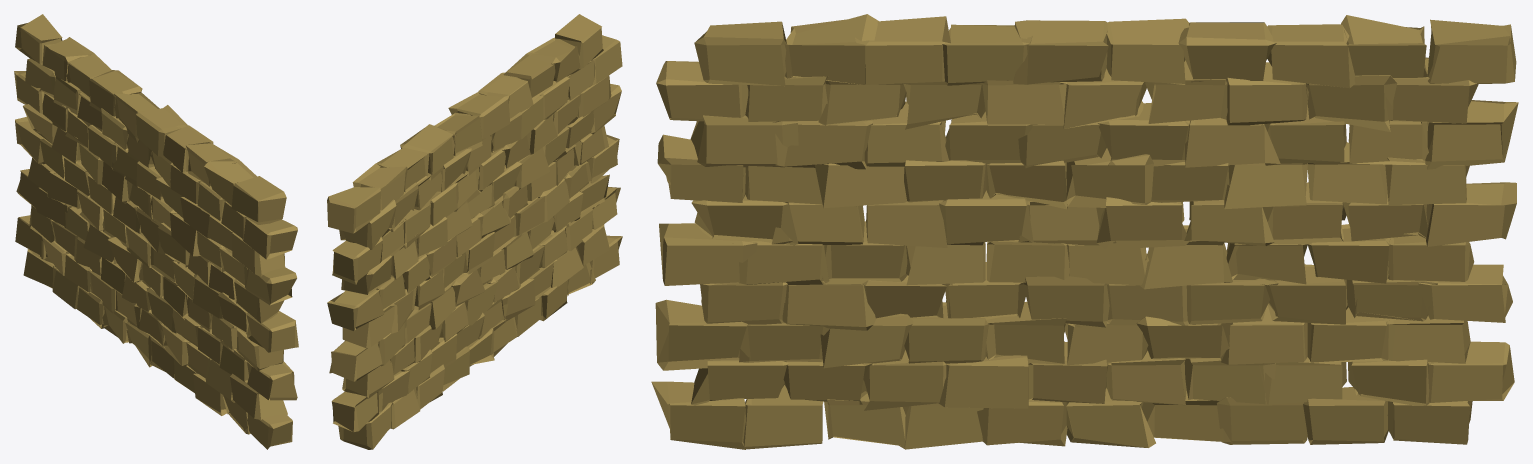
Rendered from egypt_wallset1.fbx.
3 views of the same model, side by side, from view 1: azimuth 30°, elevation 25°; view 2: azimuth 150°, elevation 25°; view 3: azimuth 270°, elevation 25° (orthographic). The views are drawn at different scales.
Visible parts, largest first — view 1: Cube; view 2: Cube; view 3: Cube.
Boxes of the visible parts, x1,y1,x2,y2 form: Cube: (14,14,298,449); Cube: (327,14,622,449); Cube: (651,14,1518,449).
Bounding box in the file's own units: 177 × 1142 × 2158.
